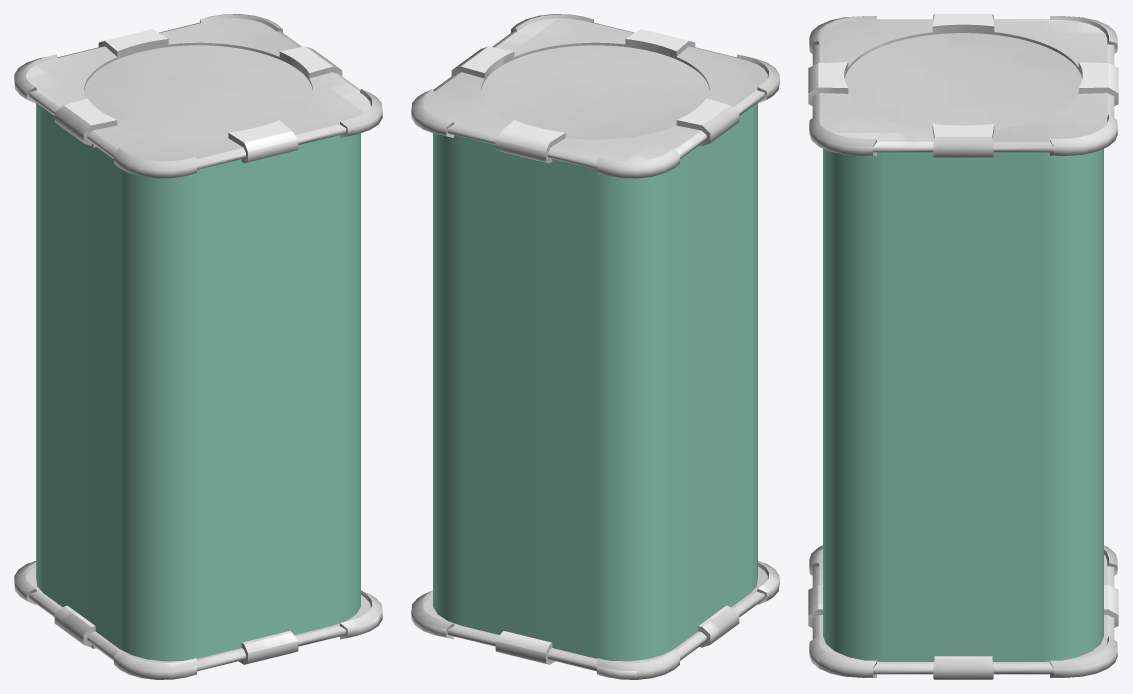
The model's file is FishtankPlatform.fbx.
3 views of the same model, side by side, from view 1: azimuth 30°, elevation 25°; view 2: azimuth 150°, elevation 25°; view 3: azimuth 270°, elevation 25° (orthographic). The views are drawn at different scales.
Visible parts, largest first — view 1: pCube284; view 2: pCube284; view 3: pCube284.
Part boxes in pixels (box(x1,y1,x2,y2)): pCube284: box(14, 14, 382, 679); pCube284: box(411, 14, 779, 679); pCube284: box(808, 14, 1118, 679).
Bounding box in the file's own units: 539 × 1042 × 539.
Materials: 2 (1 with a texture image).
